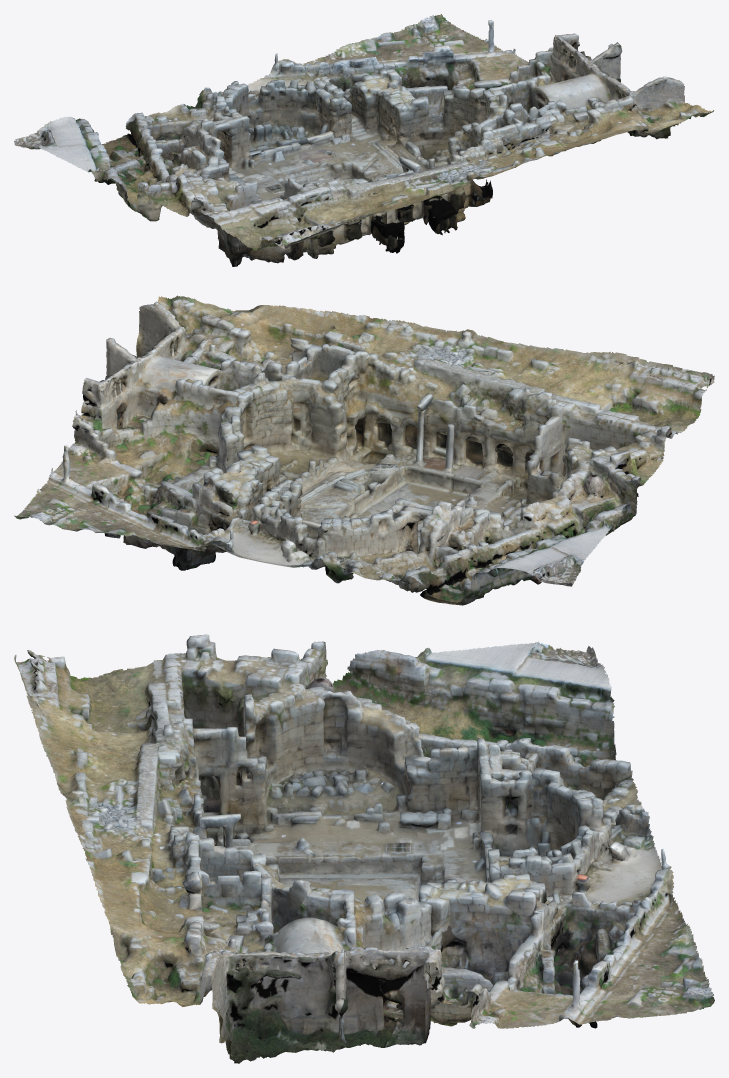
Rendered from corinth_low.obj.
3 renders of one model, top to bottom at view 1: azimuth 30°, elevation 25°; view 2: azimuth 150°, elevation 25°; view 3: azimuth 270°, elevation 25°, orthographic. The views are drawn at different scales.
Parts seen in each view (by area): view 1: corinth_low; view 2: corinth_low; view 3: corinth_low.
Part boxes in pixels (box(x1,y1,x2,y2)): corinth_low: box(14, 14, 713, 266); corinth_low: box(14, 295, 714, 605); corinth_low: box(14, 634, 714, 1063).
Bounding box in the file's own units: 47.58 × 9.19 × 37.49.
1 material, 1 textured.
